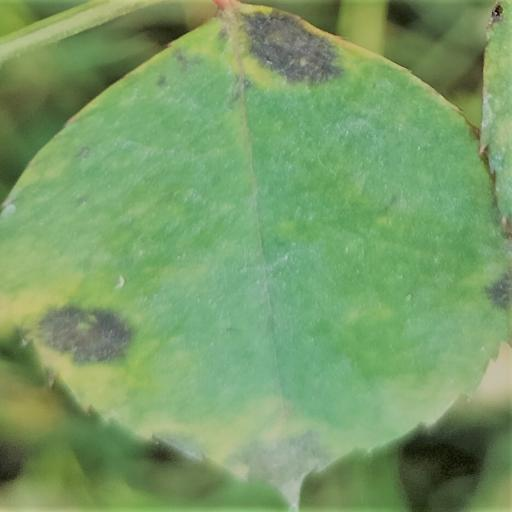black_spot: (0, 4, 509, 506)
